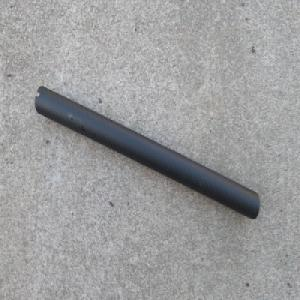LuggagePart: (35, 82, 261, 220)
